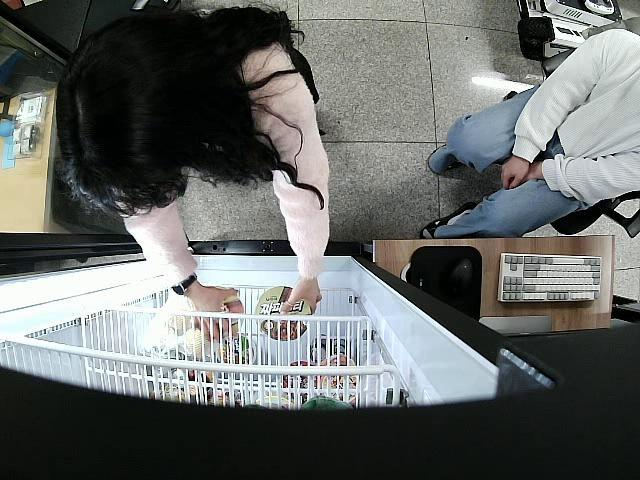03_chapagetti_L: (257, 286, 310, 338), (208, 285, 244, 337)
